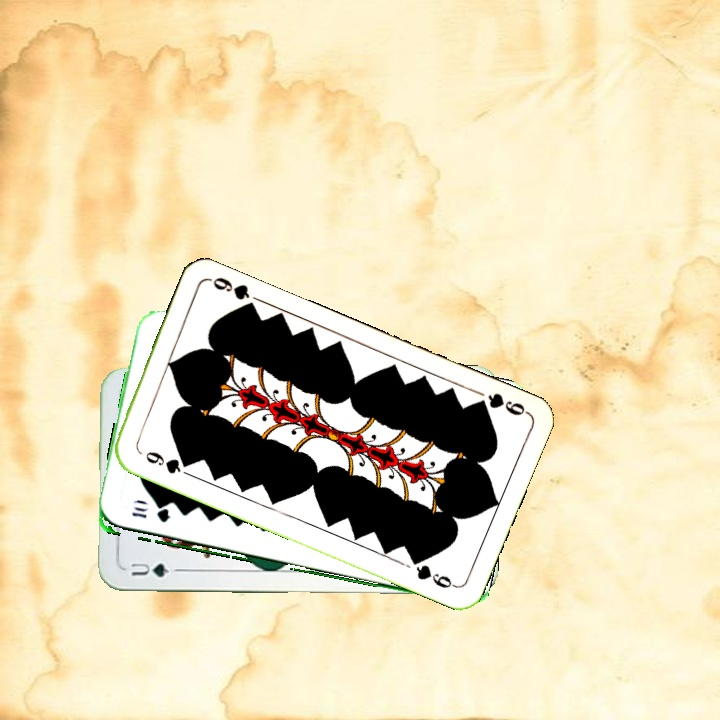G10: (127, 503, 172, 525)
G9: (470, 388, 530, 418), (141, 447, 193, 477)
GU: (127, 559, 182, 580)
